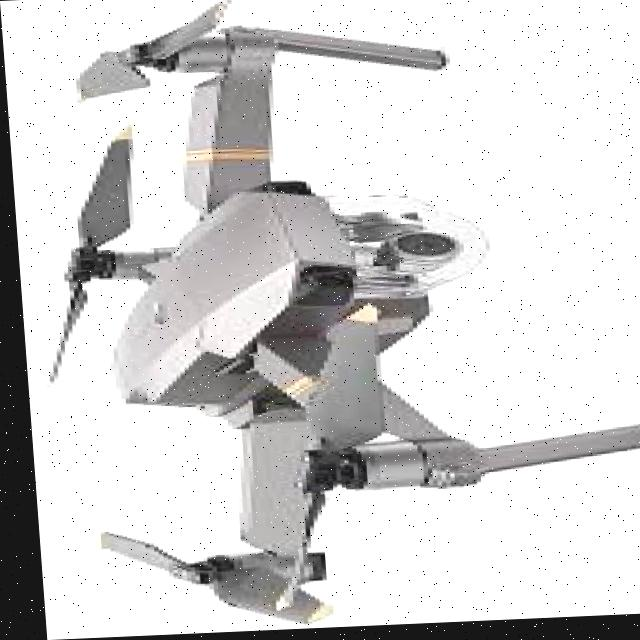drone: (9, 0, 636, 640)
